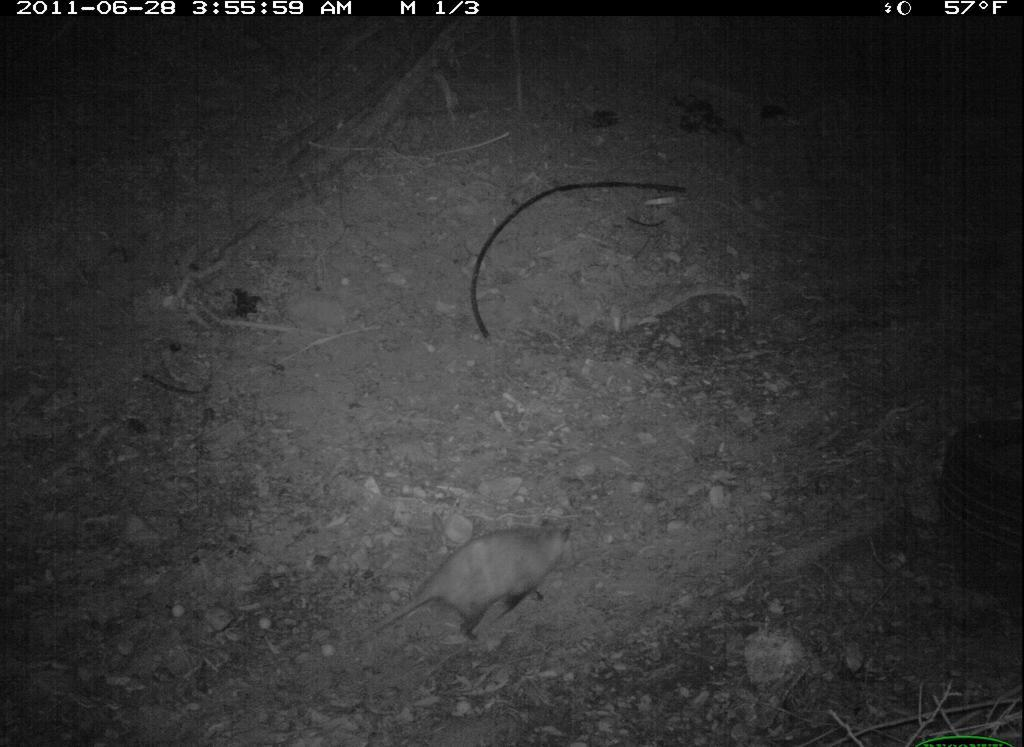opossum: (351, 509, 585, 655)
